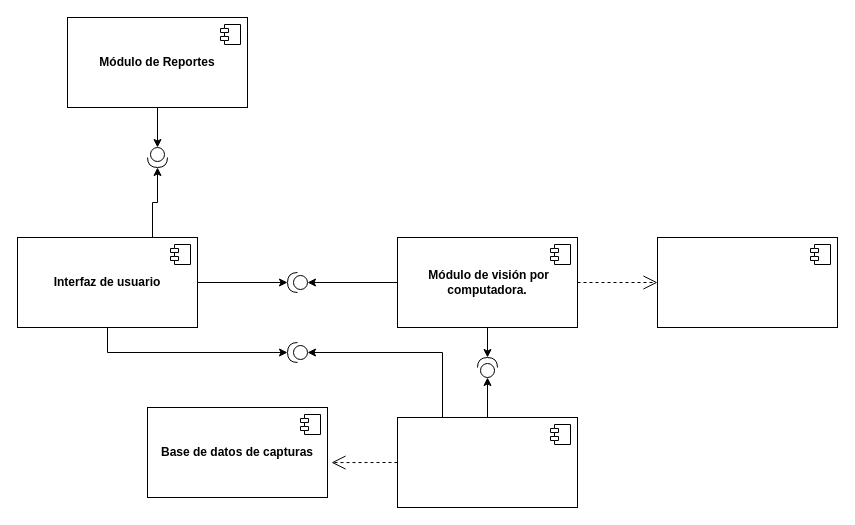
The diagram is 855 pixels wide and 525 high, and some of its shapes have lost their labels. Each missing label, with the centre of its shape:
Base de datos Armas: the point at 747,282
Módulo de captura y alerta: the point at 487,462
